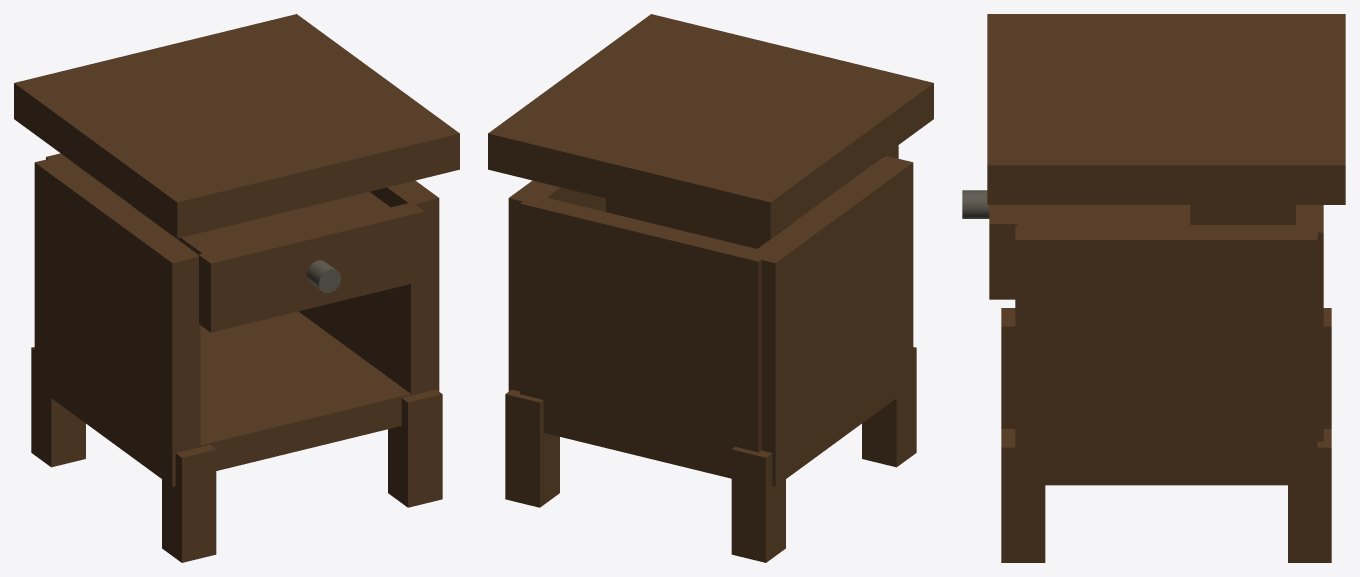
The model's file is nightstand_80s.glb.
The picture shows the model from 3 angles, left to right: view 1: azimuth 30°, elevation 25°; view 2: azimuth 150°, elevation 25°; view 3: azimuth 270°, elevation 25°; orthographic projection. The views are drawn at different scales.
Visible parts, largest first — view 1: wood__top, wood__left_panel, wood__bottom, wood__drawer_front, wood__right_panel, _MeshInstance3D_8, _MeshInstance3D_6, wood__drawer_box, wood__short_leg, metal__drawer_pull; view 2: wood__top, wood__back_panel, wood__left_panel, wood__short_leg, _MeshInstance3D_7, wood__right_panel, _MeshInstance3D_6, wood__drawer_box; view 3: wood__right_panel, wood__top, _MeshInstance3D_8, _MeshInstance3D_7, wood__drawer_box, wood__drawer_front, wood__back_panel, wood__left_panel, _MeshInstance3D_6, wood__short_leg, metal__drawer_pull.
Boxes of the visible parts, left/top/right/bottom form: wood__top: left=14, top=14, right=459, bottom=238; wood__left_panel: left=34, top=159, right=200, bottom=486; wood__bottom: left=187, top=311, right=410, bottom=470; wood__drawer_front: left=198, top=202, right=424, bottom=332; wood__right_panel: left=298, top=180, right=439, bottom=395; _MeshInstance3D_8: left=388, top=389, right=442, bottom=507; _MeshInstance3D_6: left=162, top=445, right=216, bottom=562; wood__drawer_box: left=132, top=191, right=390, bottom=254; wood__short_leg: left=31, top=347, right=85, bottom=467; metal__drawer_pull: left=306, top=260, right=341, bottom=292; wood__top: left=488, top=14, right=933, bottom=238; wood__back_panel: left=520, top=195, right=768, bottom=478; wood__left_panel: left=748, top=156, right=913, bottom=486; wood__short_leg: left=731, top=446, right=785, bottom=562; _MeshInstance3D_7: left=505, top=389, right=559, bottom=507; wood__right_panel: left=508, top=180, right=605, bottom=391; _MeshInstance3D_6: left=862, top=347, right=916, bottom=467; wood__drawer_box: left=606, top=164, right=872, bottom=248; wood__right_panel: left=1015, top=225, right=1317, bottom=485; wood__top: left=987, top=14, right=1345, bottom=204; _MeshInstance3D_8: left=1001, top=429, right=1045, bottom=562; _MeshInstance3D_7: left=1288, top=429, right=1331, bottom=562; wood__drawer_box: left=1017, top=205, right=1190, bottom=224; wood__drawer_front: left=989, top=205, right=1017, bottom=299; wood__back_panel: left=1296, top=205, right=1323, bottom=441; wood__left_panel: left=1190, top=205, right=1295, bottom=224; _MeshInstance3D_6: left=1001, top=308, right=1015, bottom=428; wood__short_leg: left=1323, top=308, right=1331, bottom=428; metal__drawer_pull: left=962, top=190, right=989, bottom=218.
Bounding box in the file's own units: 0.45 × 0.5595 × 0.4815.
